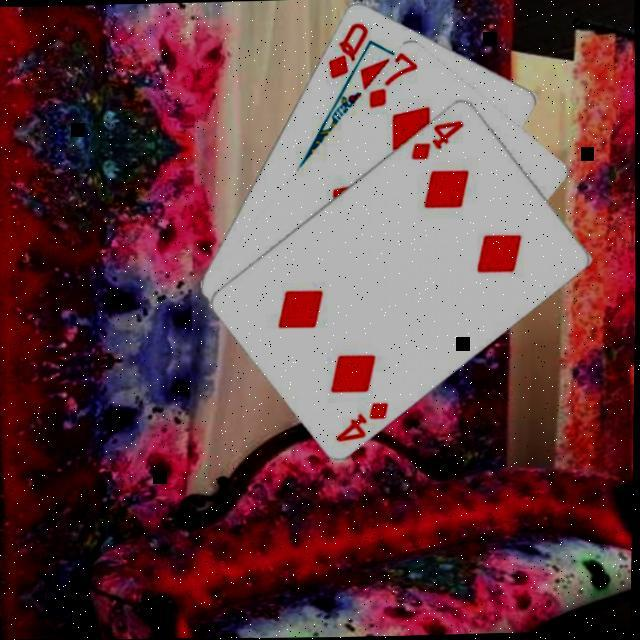4D: (406, 114, 466, 161), (332, 395, 392, 442)
7D: (362, 49, 420, 108)
QD: (322, 16, 370, 79)
